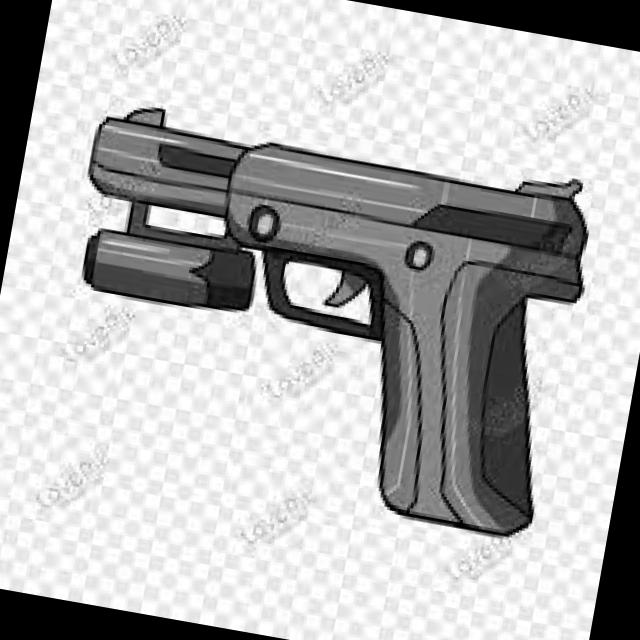gun: (35, 91, 600, 542)
